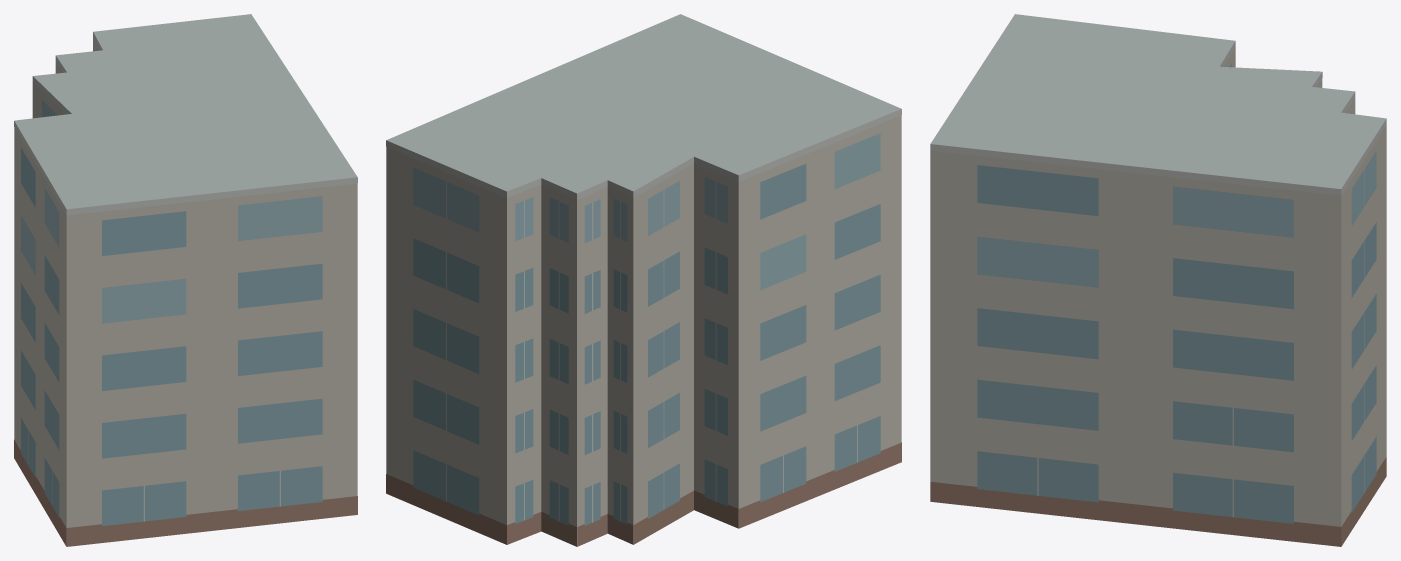
The model's file is survey-upis-33045297.glb.
3 renders of one model, left to right at view 1: azimuth 30°, elevation 25°; view 2: azimuth 150°, elevation 25°; view 3: azimuth 270°, elevation 25°, orthographic. The views are drawn at different scales.
Visible parts, largest first — view 1: survey-upis-33045297.tmp; view 2: survey-upis-33045297.tmp; view 3: survey-upis-33045297.tmp.
Part boxes in pixels (x1=…): survey-upis-33045297.tmp: x1=14, y1=14, x2=357, y2=546; survey-upis-33045297.tmp: x1=386, y1=14, x2=901, y2=546; survey-upis-33045297.tmp: x1=930, y1=14, x2=1386, y2=546.
Bounding box in the file's own units: 13.98 × 13.3 × 15.39.
